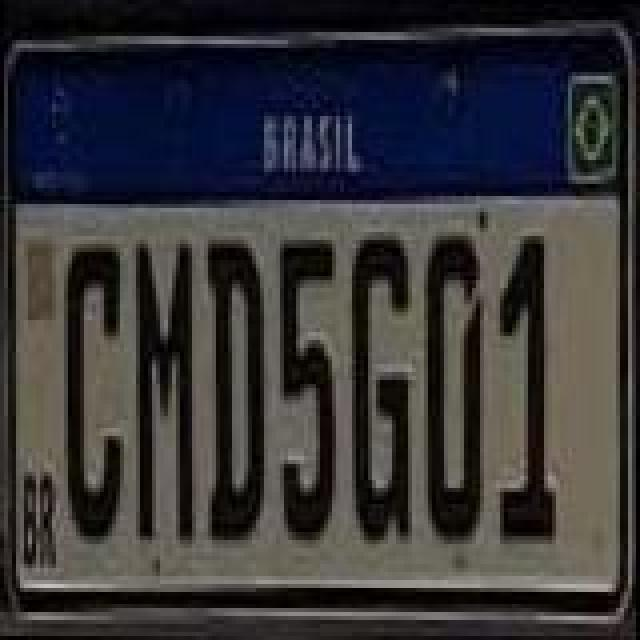1: (492, 228, 564, 548)
5: (268, 232, 340, 552)
C: (58, 240, 126, 544)
D: (420, 224, 492, 544), (196, 236, 268, 548)
G: (344, 234, 416, 550)
M: (128, 238, 200, 546)
